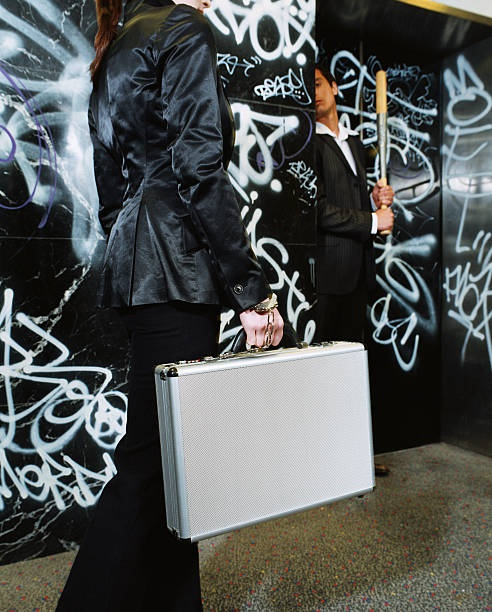bita: (371, 68, 398, 241)
